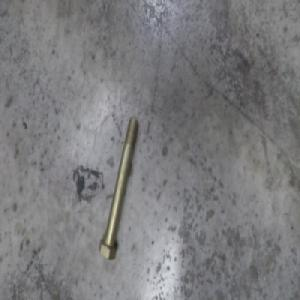Bolt: (96, 107, 139, 248)
